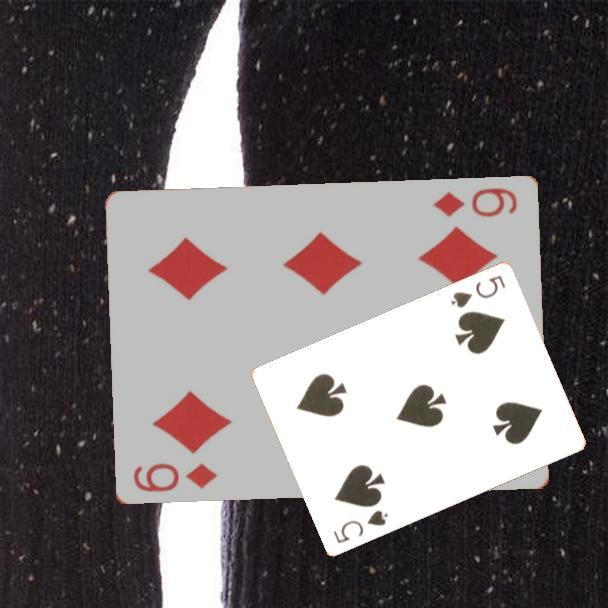d06: (429, 184, 520, 221), (129, 460, 220, 496)
s05: (330, 507, 391, 547), (447, 272, 508, 312)
